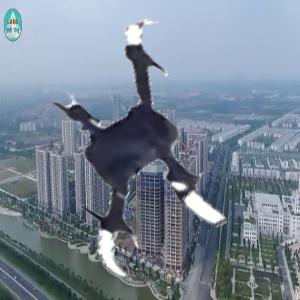drone: (21, 24, 287, 290)
